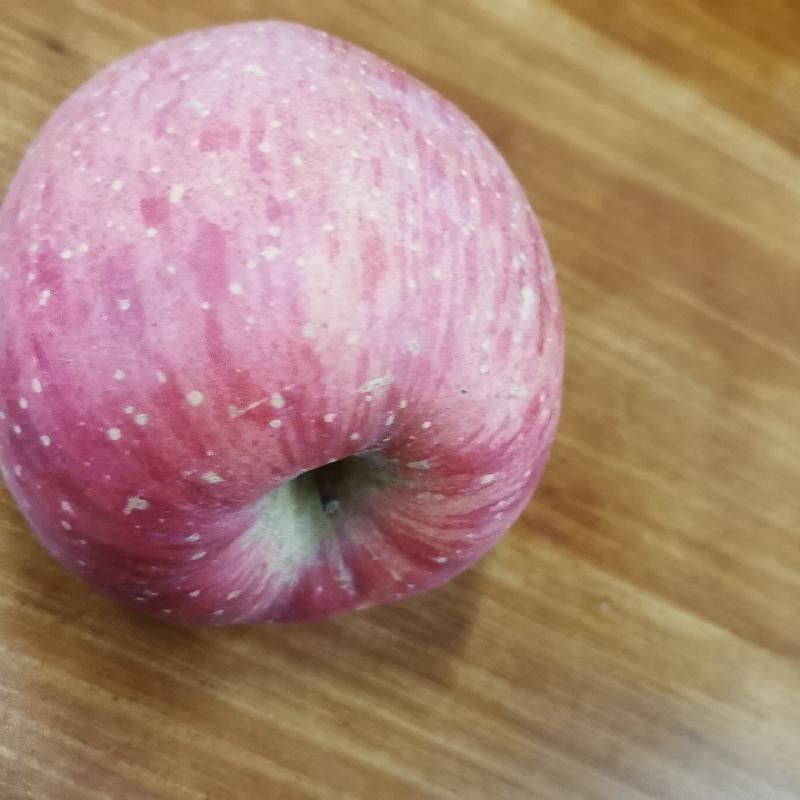apples: (5, 14, 566, 639)
